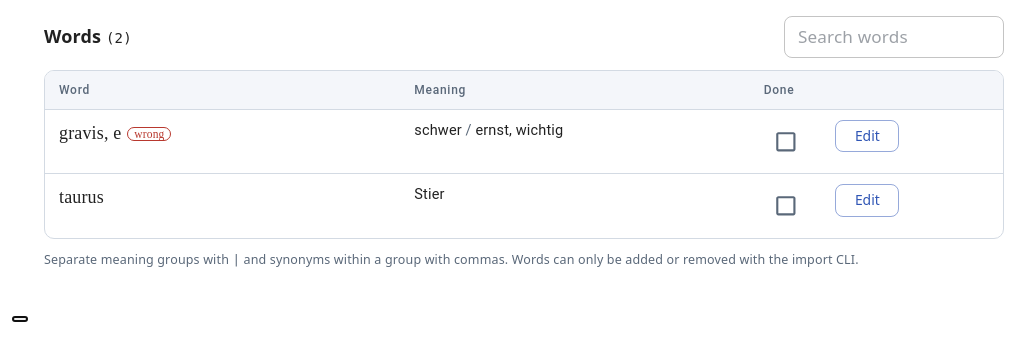
Test: editing › does not send meanings that cannot be stored:
Click the button with aria-label "Edit gravis, e" at (867, 136), box 835,120 -> 899,152
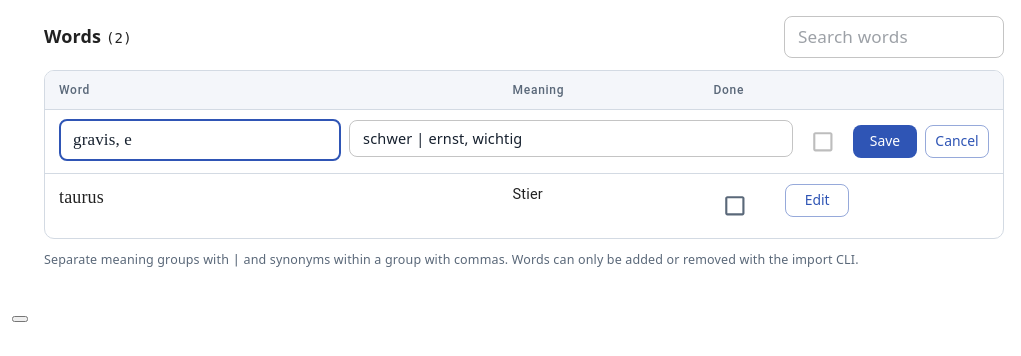
Clear the field named "Meaning" at (571, 138), box 349,120 -> 793,157
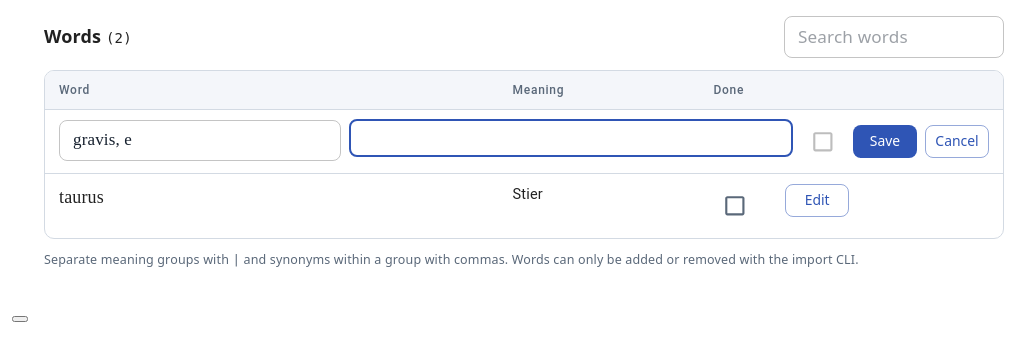
Click the button "Save" at (885, 142), box 853,125 -> 917,158
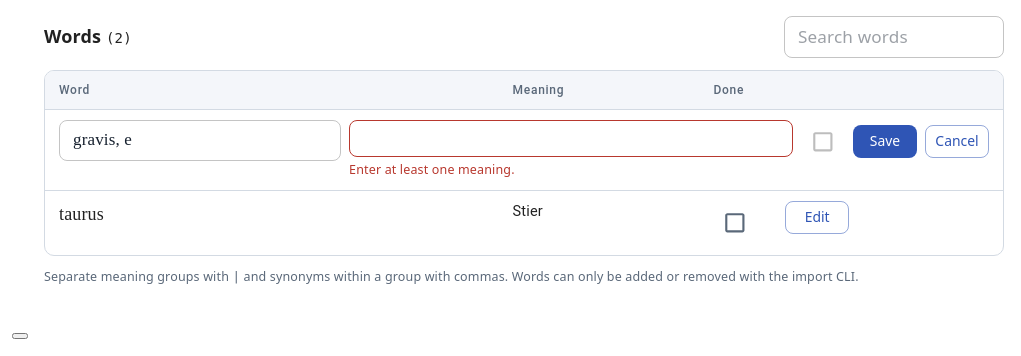
Now the message reads "Enter at least one meaning.", box 349,162 -> 515,178
